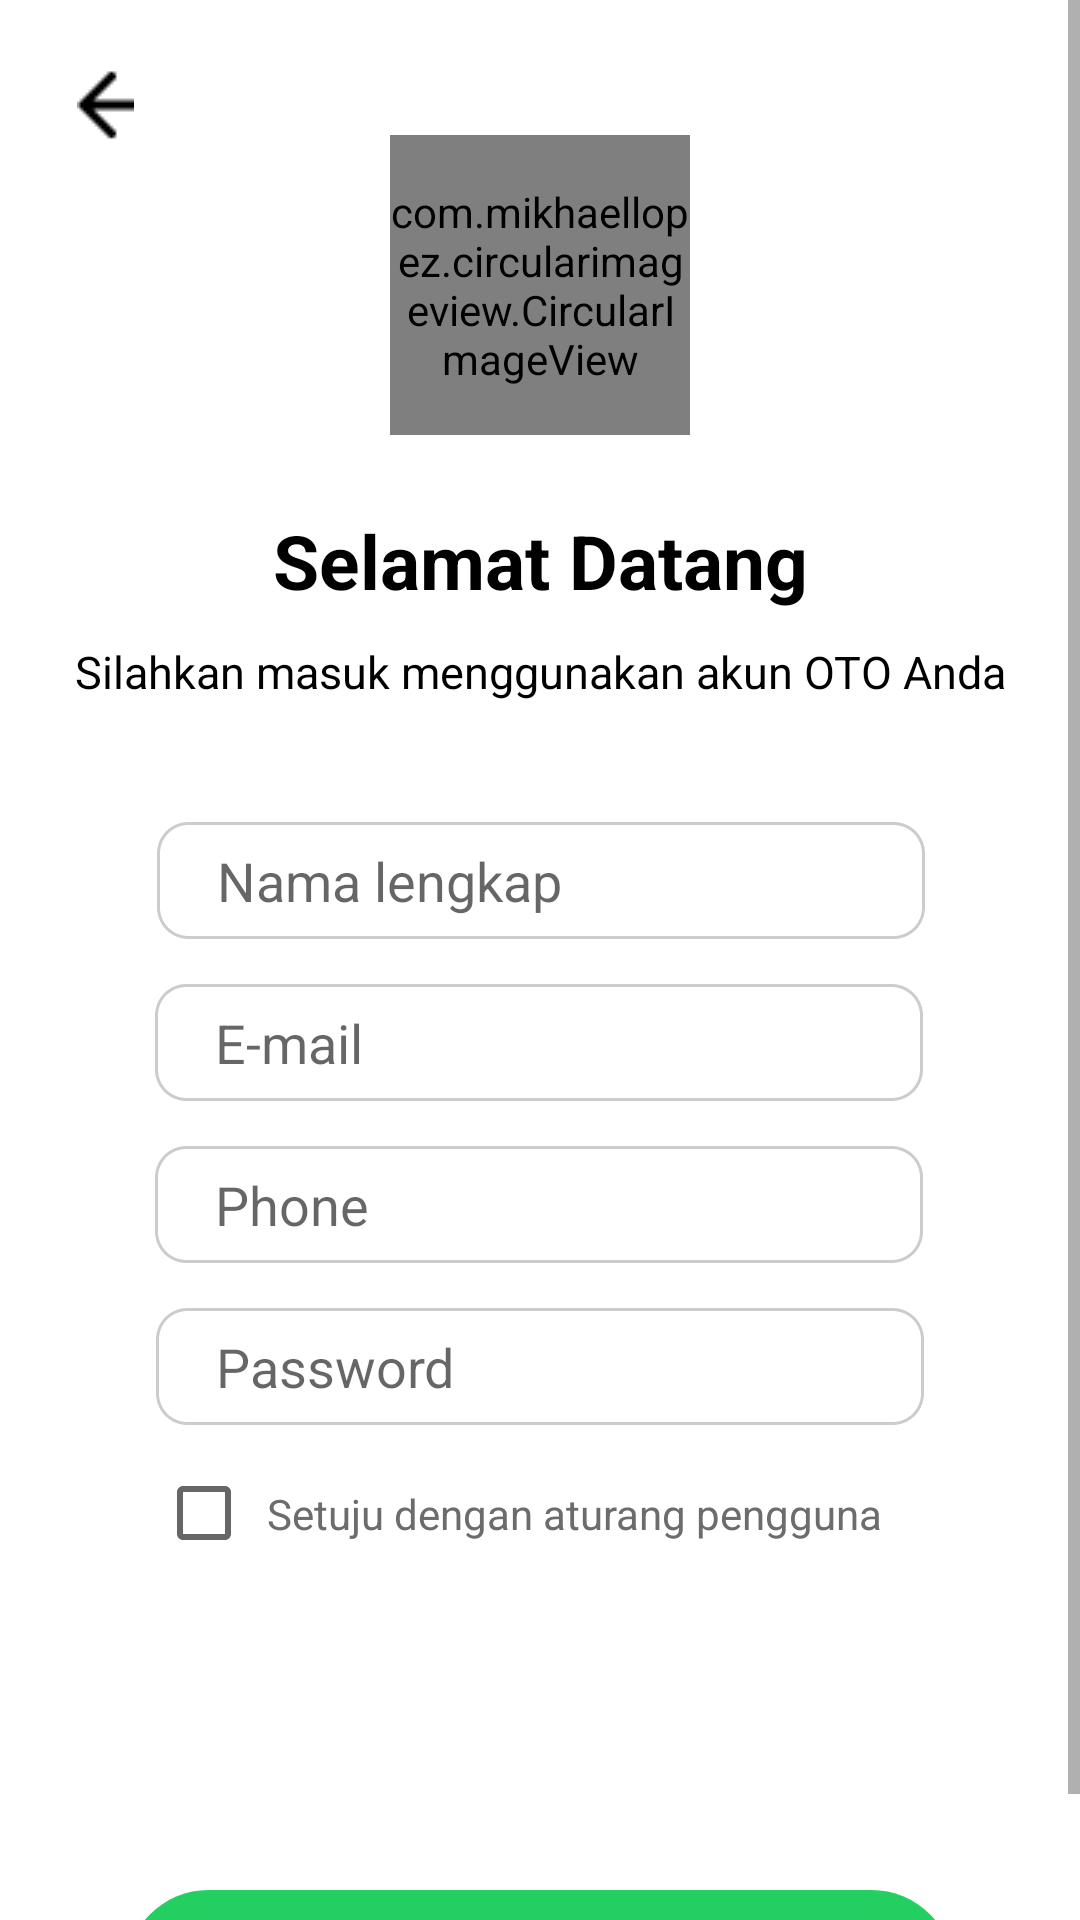

Screen size 1080px×1920px. Icon name, then its center in pixels as point (x, y):
arrow back: point (105, 105)
